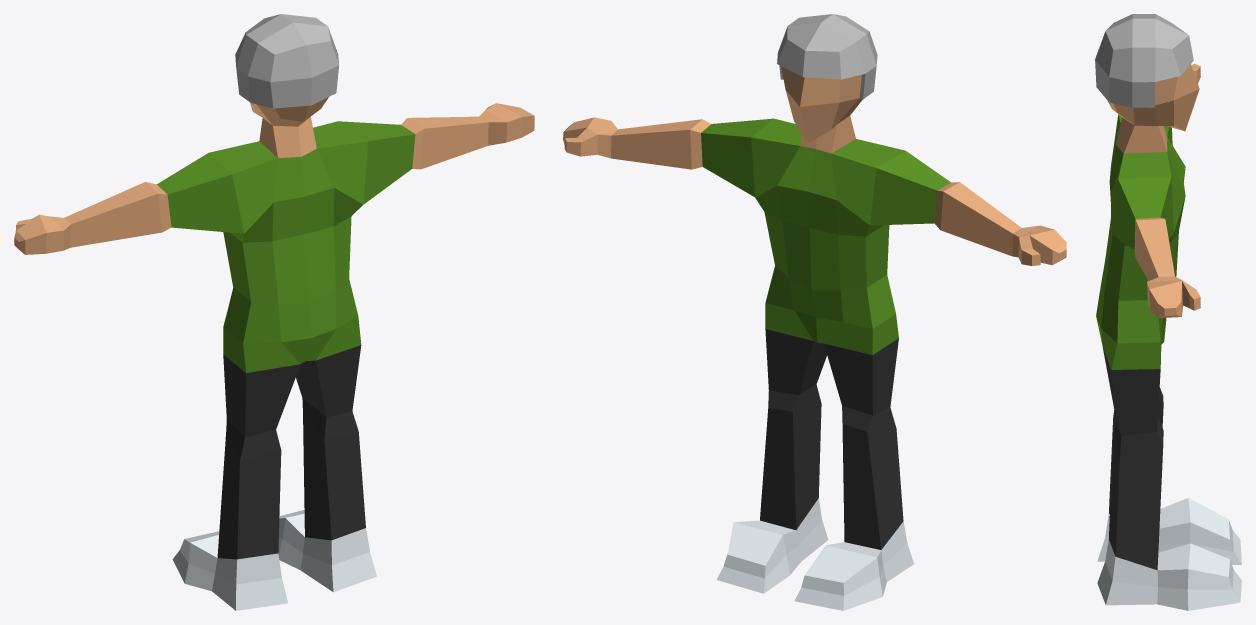
Rendered from NPCS3.fbx.
The picture shows the model from 3 angles, left to right: view 1: azimuth 30°, elevation 25°; view 2: azimuth 150°, elevation 25°; view 3: azimuth 270°, elevation 25°; orthographic projection. The views are drawn at different scales.
Parts seen in each view (by area): view 1: NPC.003; view 2: NPC.003; view 3: NPC.003.
Boxes of the visible parts, bbox=[...] form: NPC.003: bbox=[14, 14, 534, 610]; NPC.003: bbox=[563, 14, 1066, 610]; NPC.003: bbox=[1095, 14, 1241, 610].
Size of the model in its own units: 3.76 by 0.9411 by 3.92.
